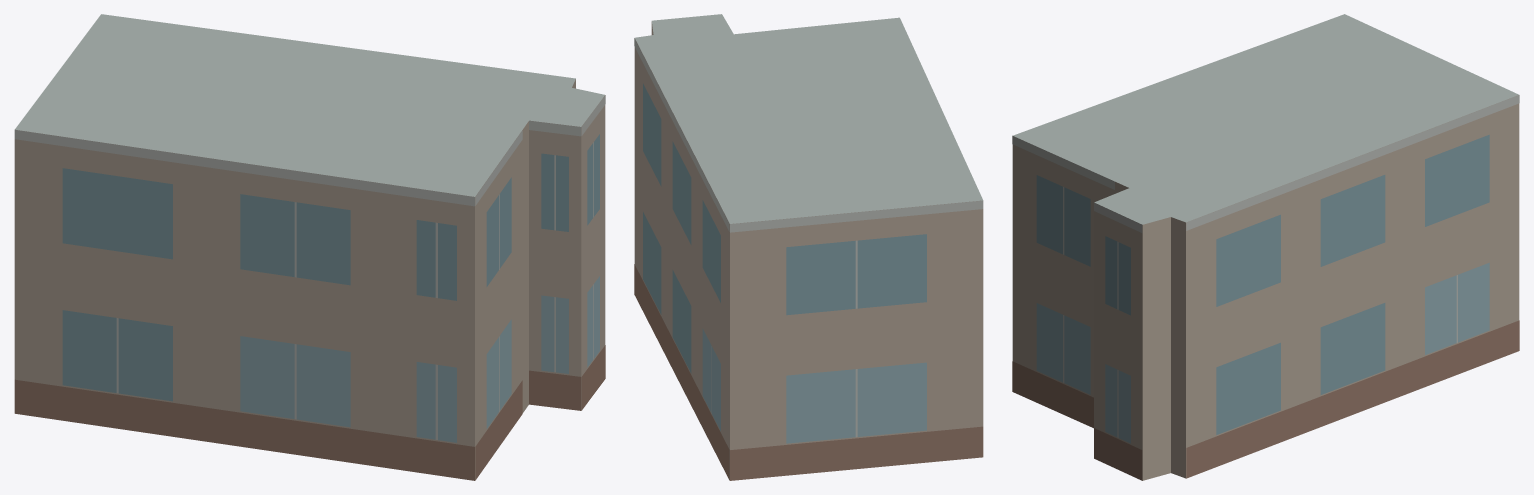
Rendered from survey-upis-32639412.glb.
3 renders of one model, left to right at view 1: azimuth 30°, elevation 25°; view 2: azimuth 150°, elevation 25°; view 3: azimuth 270°, elevation 25°, orthographic. The views are drawn at different scales.
Visible parts, largest first — view 1: survey-upis-32639412.tmp; view 2: survey-upis-32639412.tmp; view 3: survey-upis-32639412.tmp.
Boxes of the visible parts, x1,y1,x2,y2 form: survey-upis-32639412.tmp: (14, 14, 605, 480); survey-upis-32639412.tmp: (634, 14, 983, 480); survey-upis-32639412.tmp: (1012, 14, 1519, 480).
Size of the model in its own units: 12.89 by 7.3 by 13.1.
